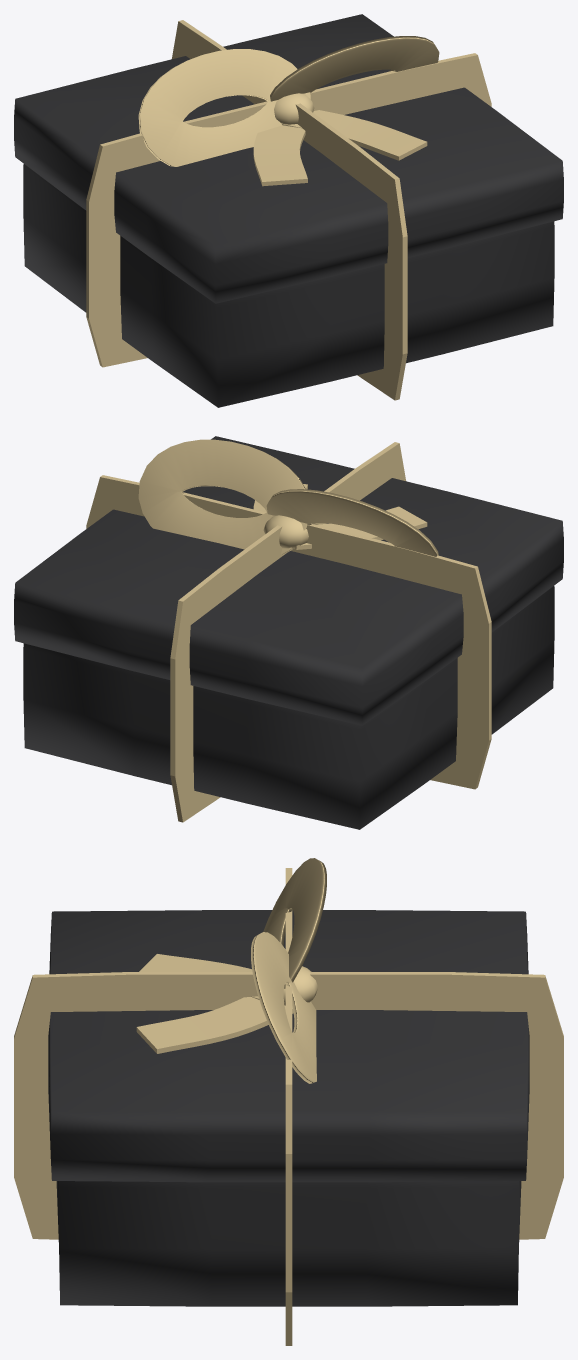
Rendered from GiftBox.obj.
The picture shows the model from 3 angles, top to bottom: view 1: azimuth 30°, elevation 25°; view 2: azimuth 150°, elevation 25°; view 3: azimuth 270°, elevation 25°; orthographic projection. The views are drawn at different scales.
Parts seen in each view (by area): view 1: PaperBlack, SatinRibbon; view 2: PaperBlack, SatinRibbon; view 3: PaperBlack, SatinRibbon.
Part boxes in pixels (box(x1,y1,x2,y2)): PaperBlack: box(14, 14, 563, 407); SatinRibbon: box(86, 20, 491, 400); PaperBlack: box(14, 436, 563, 829); SatinRibbon: box(86, 439, 491, 822); PaperBlack: box(48, 910, 529, 1306); SatinRibbon: box(14, 858, 563, 1345).
Bounding box in the file's own units: 0.1006 × 0.0659 × 0.1006.
